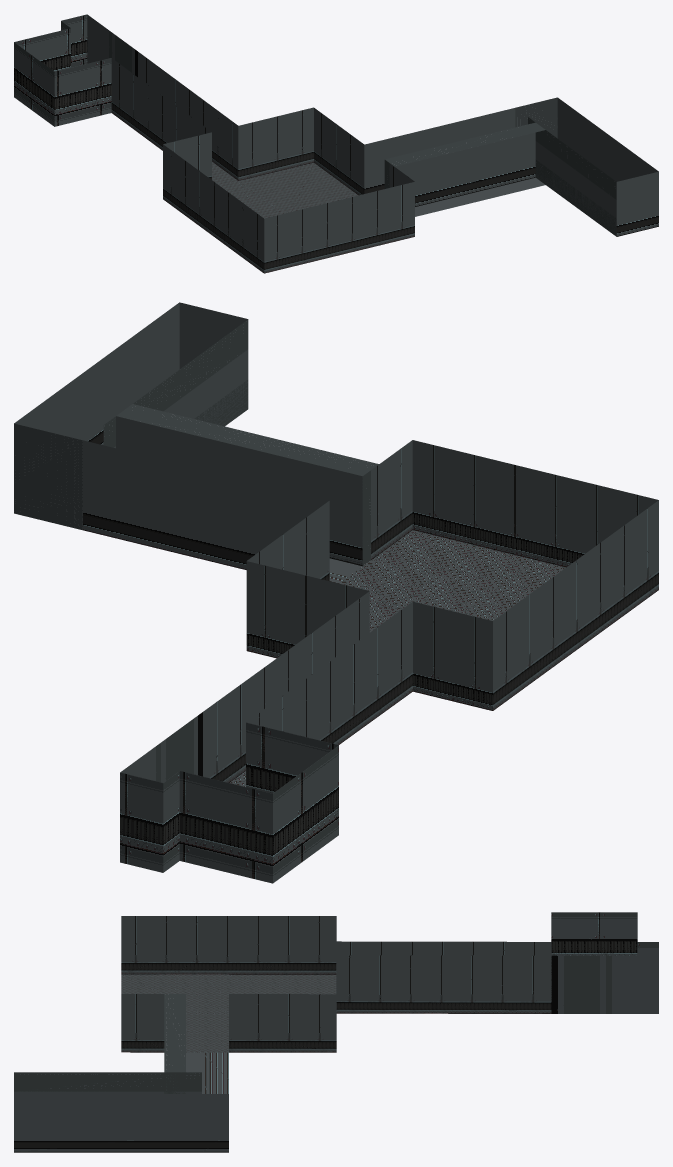
Rendered from doomLevel.glb.
The picture shows the model from 3 angles, top to bottom: view 1: azimuth 30°, elevation 25°; view 2: azimuth 150°, elevation 25°; view 3: azimuth 270°, elevation 25°; orthographic projection. The views are drawn at different scales.
Parts seen in each view (by area): view 1: Plane; view 2: Plane; view 3: Plane.
Part boxes in pixels (bbox=[...]): Plane: bbox=[14, 14, 658, 273]; Plane: bbox=[14, 302, 658, 883]; Plane: bbox=[14, 912, 658, 1152].
Bounding box in the file's own units: 20 × 3 × 30.
Materials: 2 (2 with a texture image).
